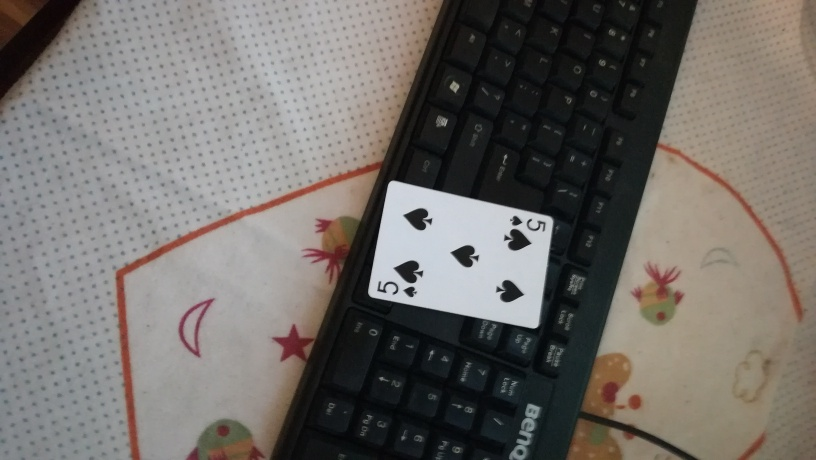ht 5: (365, 177, 557, 327)
